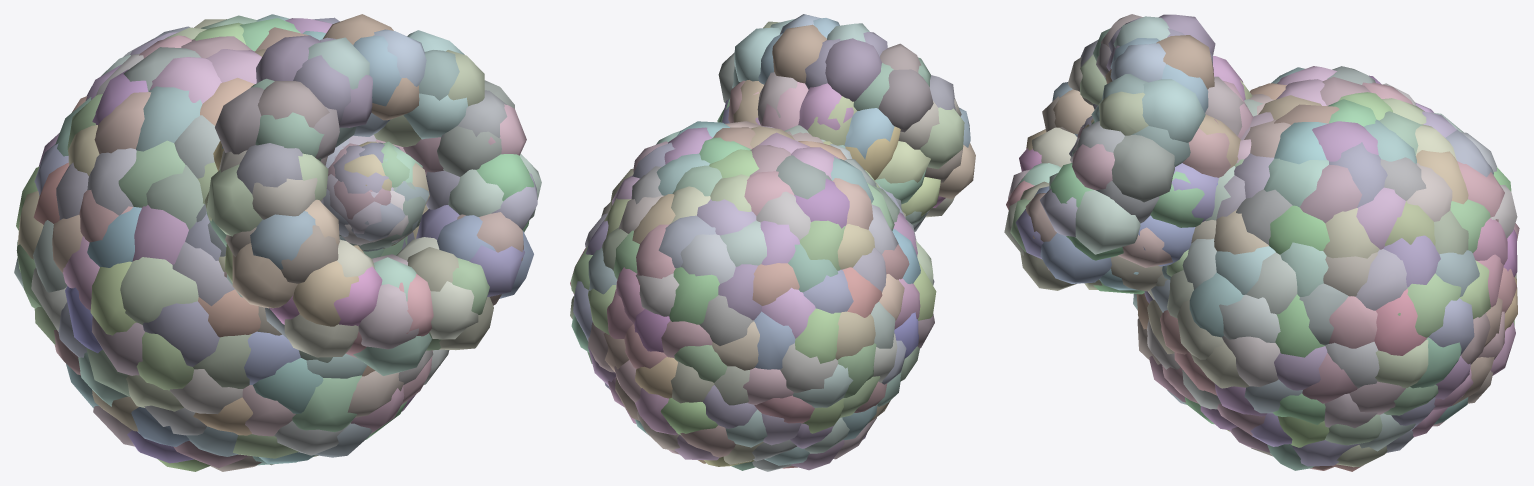
Rendered from bacteriophage_P68_120_cleaned_draco.glb.
3 views of the same model, side by side, from view 1: azimuth 30°, elevation 25°; view 2: azimuth 150°, elevation 25°; view 3: azimuth 270°, elevation 25° (orthographic). The views are drawn at different scales.
Parts seen in each view (by area): view 1: 6q3g.cif_A1 Gaussian surface; view 2: 6q3g.cif_A1 Gaussian surface; view 3: 6q3g.cif_A1 Gaussian surface.
Part boxes in pixels (left/top/right/bottom): 6q3g.cif_A1 Gaussian surface: left=14, top=14, right=541, bottom=471; 6q3g.cif_A1 Gaussian surface: left=570, top=14, right=975, bottom=471; 6q3g.cif_A1 Gaussian surface: left=1004, top=14, right=1519, bottom=471.
Size of the model in its own units: 544 by 648 by 728.
